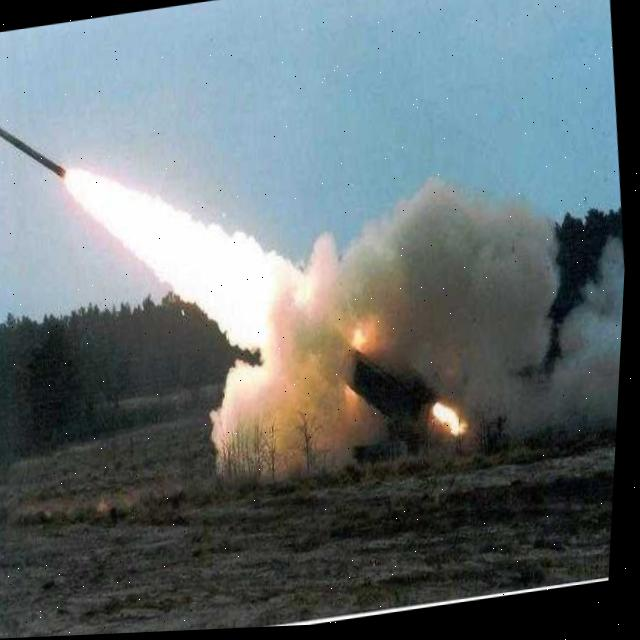missile: (0, 114, 70, 188)
